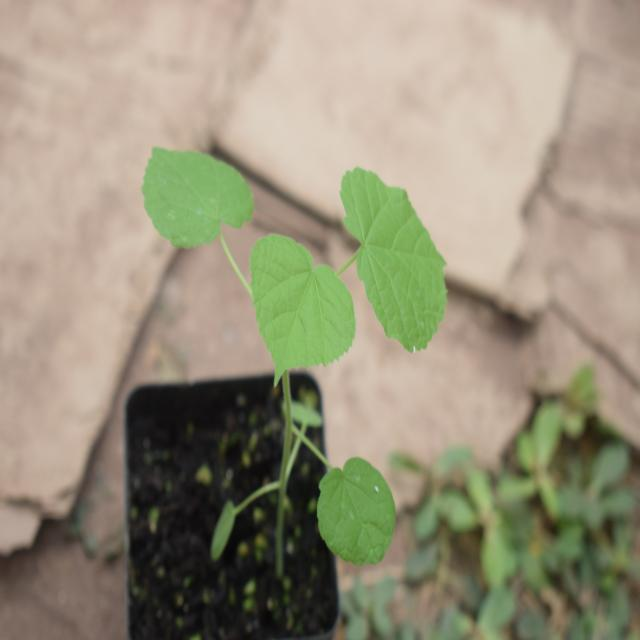abutilon theophrasti: (129, 131, 466, 559)
